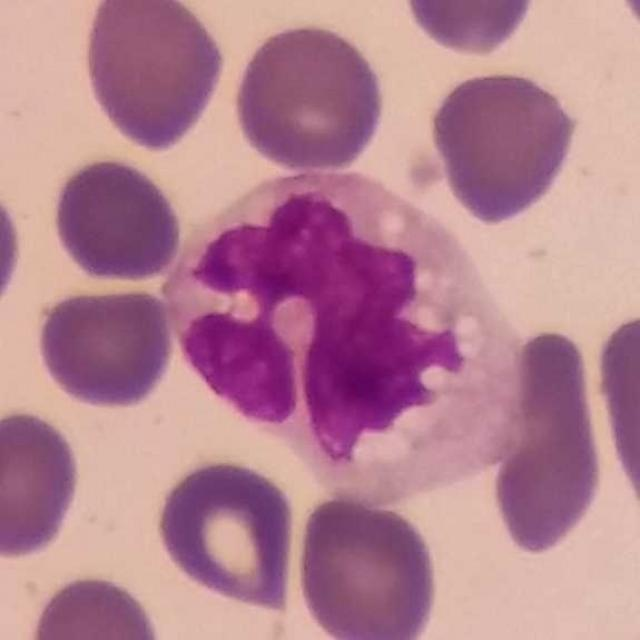Monocyte: (162, 170, 538, 509)
RBC: (483, 324, 610, 562), (425, 65, 583, 227), (229, 18, 390, 176), (152, 454, 300, 616), (289, 488, 445, 640), (78, 0, 229, 154), (31, 282, 178, 412), (48, 153, 187, 286), (0, 405, 86, 562), (591, 304, 640, 533), (22, 570, 168, 640), (398, 0, 540, 59), (0, 178, 28, 325)
